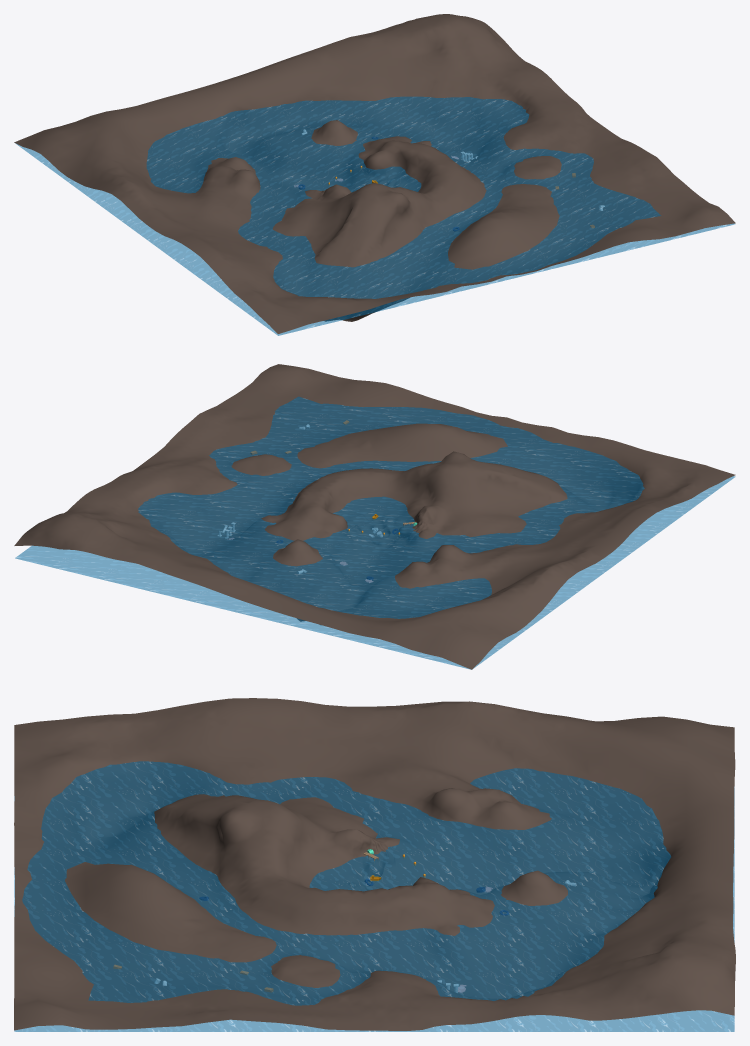
Rendered from depthfish_proto.glb.
3 views of the same model, one above another, from view 1: azimuth 30°, elevation 25°; view 2: azimuth 150°, elevation 25°; view 3: azimuth 270°, elevation 25° (orthographic). The views are drawn at different scales.
Visible parts, largest first — view 1: Terrain, Water; view 2: Terrain, Water; view 3: Terrain, Water.
Boxes of the visible parts, left/top/right/bottom form: Terrain: left=14, top=14, right=735, bottom=333; Water: left=15, top=96, right=734, bottom=335; Terrain: left=14, top=364, right=735, bottom=669; Water: left=15, top=396, right=735, bottom=669; Terrain: left=14, top=698, right=735, bottom=1030; Water: left=14, top=761, right=734, bottom=1031.
Bounding box in the file's own units: 301 × 42.84 × 301.
Materials: 9 (1 with a texture image).
